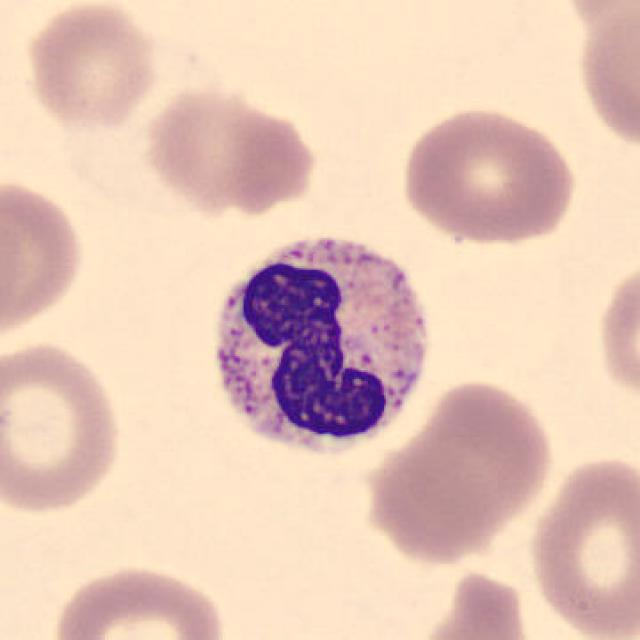Neutrophil: (192, 217, 444, 474)
RBC: (358, 374, 558, 566), (395, 102, 581, 247), (137, 81, 322, 219), (0, 337, 128, 518), (524, 449, 638, 640), (20, 0, 162, 136), (0, 171, 89, 351), (46, 559, 233, 640), (569, 0, 638, 157), (406, 566, 542, 640), (592, 248, 638, 420), (549, 0, 640, 39)
